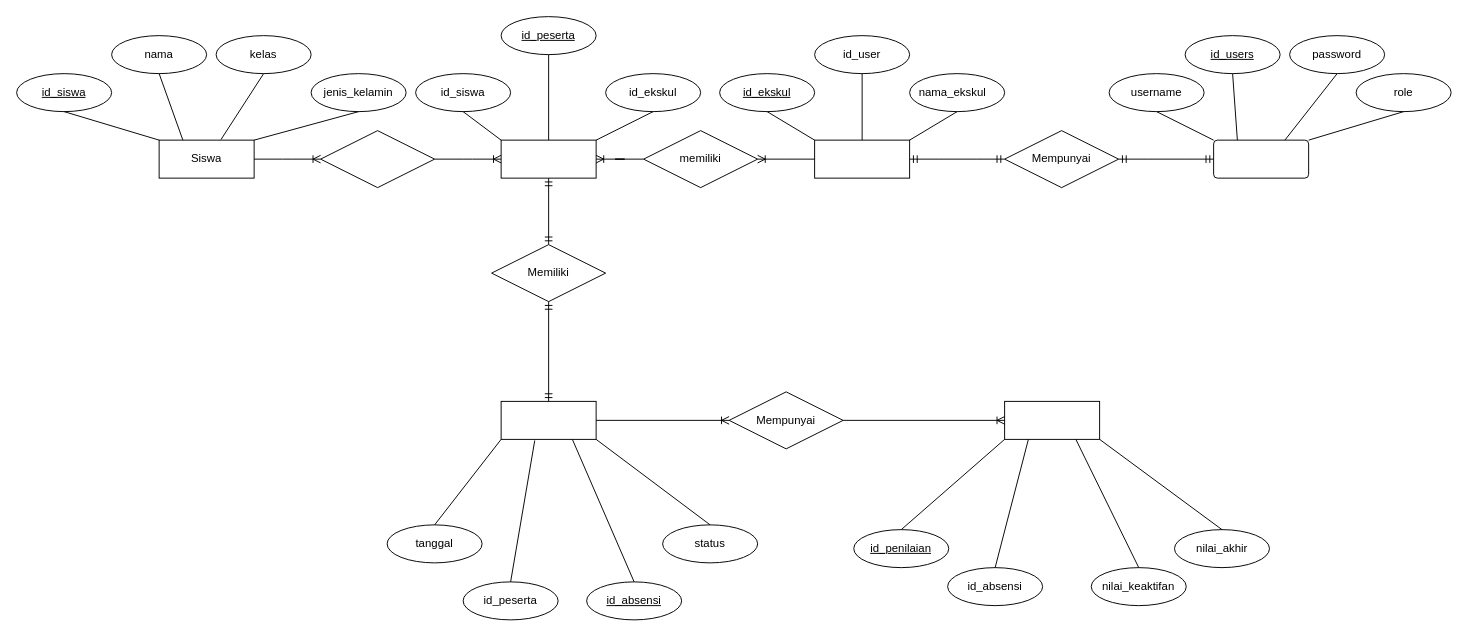
Some shapes in this 1468 by 637 pixel diagram are drawn without their labels. Each missing label, with the box of its shape:
Absensi: (500, 400, 596, 439)
Ekskul: (814, 139, 910, 178)
menjadi: (320, 130, 435, 188)
Penilaian: (1004, 400, 1100, 439)
Peserta: (500, 139, 596, 178)
Users: (1213, 139, 1309, 178)
